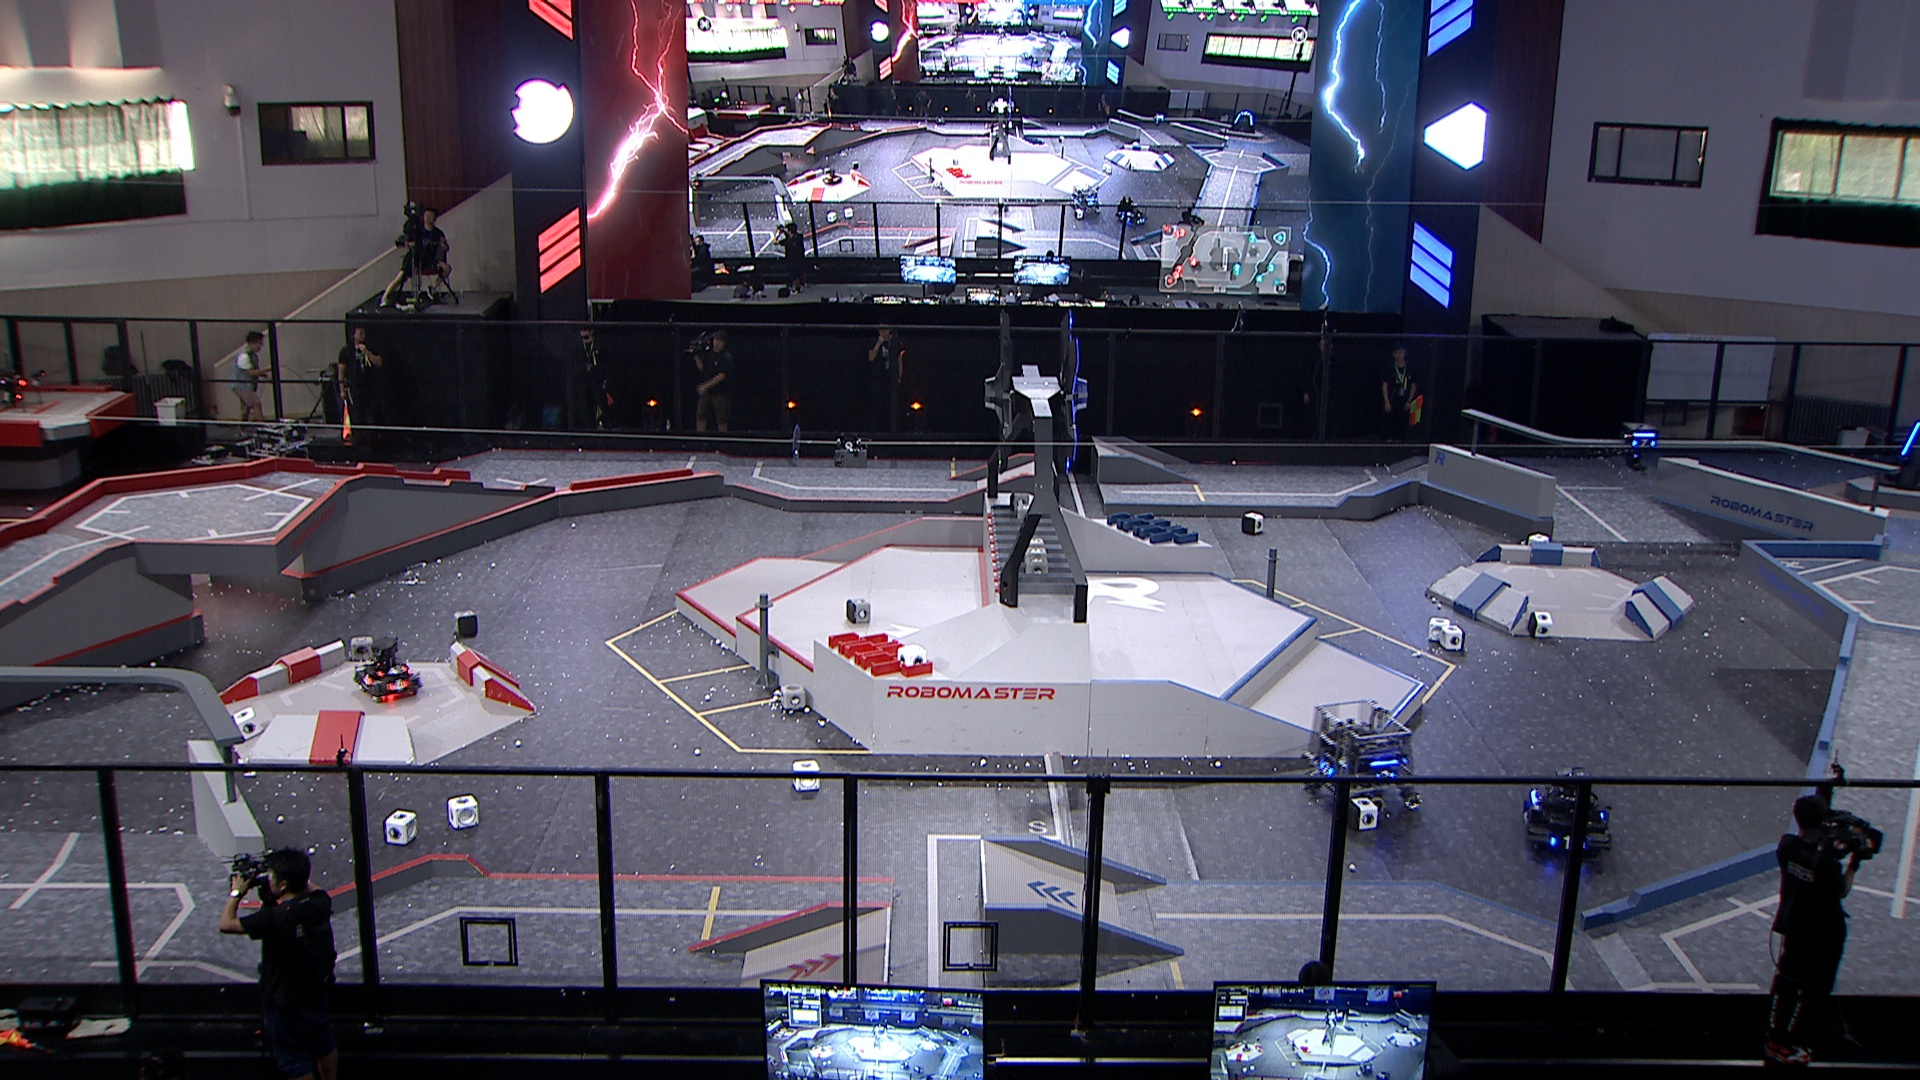armor: (1549, 835, 1589, 855), (1902, 419, 1920, 458), (377, 665, 409, 678), (1317, 761, 1337, 779), (1631, 436, 1658, 450), (386, 679, 410, 694), (1373, 766, 1396, 781), (363, 673, 373, 687)
base: (1876, 413, 1920, 495)
car: (1304, 698, 1425, 816), (1523, 766, 1615, 860), (231, 419, 315, 506), (186, 442, 256, 518), (351, 636, 422, 702)
ignore: (1072, 185, 1105, 222), (1120, 202, 1149, 229), (1229, 109, 1257, 135), (822, 167, 841, 186), (688, 173, 702, 194), (1153, 111, 1166, 128)
watcher: (1619, 422, 1662, 475)
